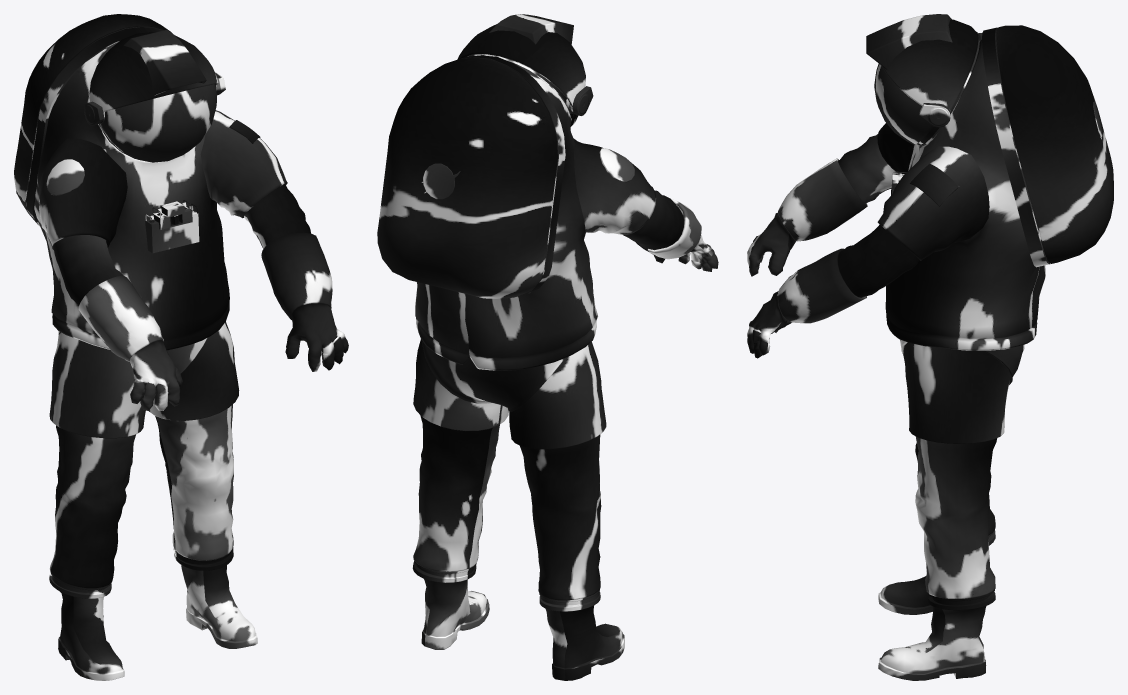
Rendered from nuevo.gltf.
3 renders of one model, left to right at view 1: azimuth 30°, elevation 25°; view 2: azimuth 150°, elevation 25°; view 3: azimuth 270°, elevation 25°, orthographic.
Parts seen in each view (by area): view 1: Z2; view 2: Z2; view 3: Z2.
Part boxes in pixels (x1,y1,x2,y2): Z2: [14, 14, 348, 680]; Z2: [377, 14, 718, 680]; Z2: [747, 14, 1113, 680].
Size of the model in its own units: 0.7944 by 1.94 by 1.04.
1 material, 1 textured.
